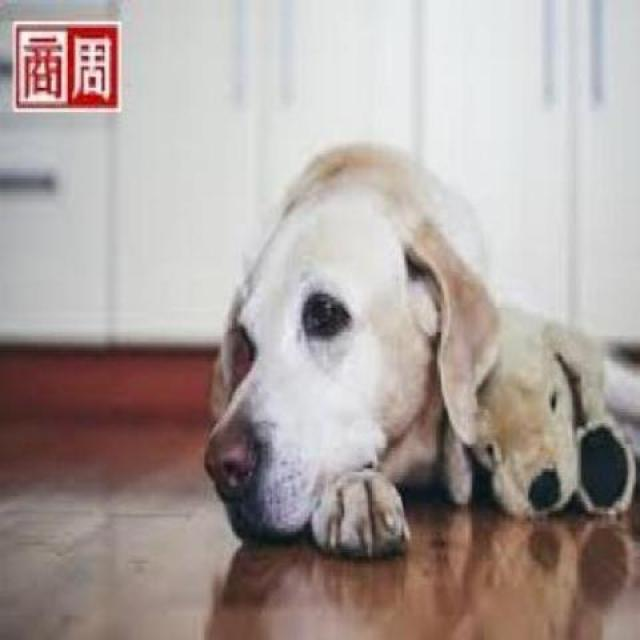dog: (174, 159, 514, 552)
